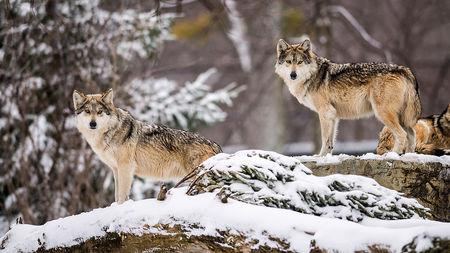fox: (274, 37, 423, 157), (72, 88, 223, 206), (374, 106, 450, 155)
